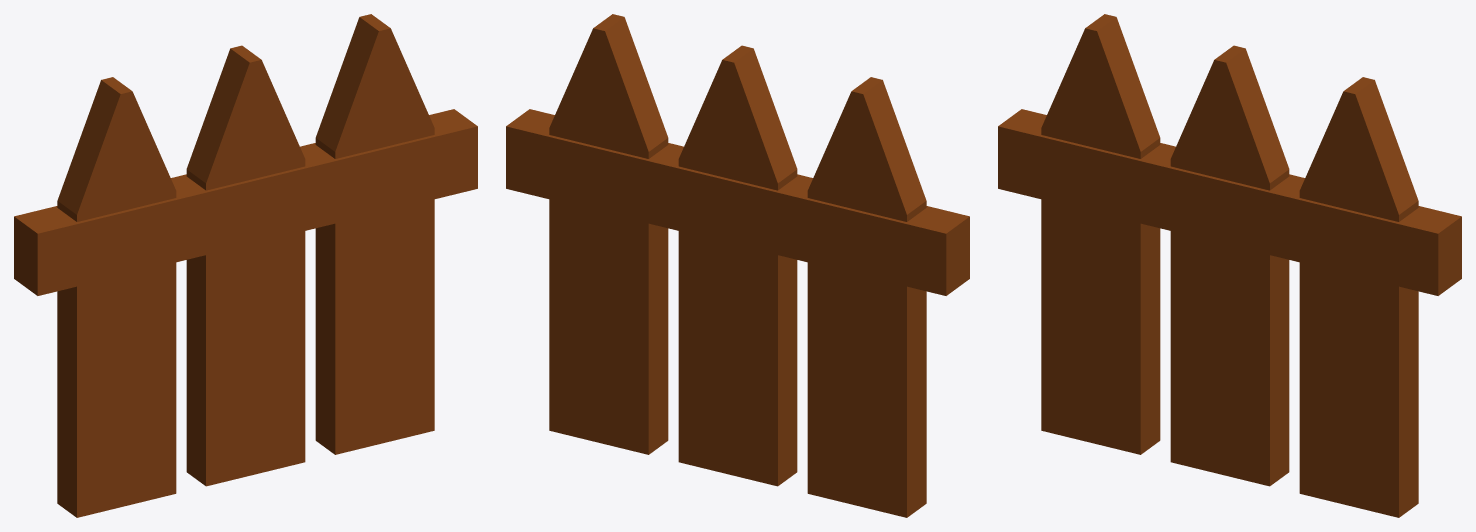
Rendered from fence.fbx.
3 views of the same model, side by side, from view 1: azimuth 30°, elevation 25°; view 2: azimuth 150°, elevation 25°; view 3: azimuth 330°, elevation 25° (orthographic).
Visible parts, largest first — view 1: Cube; view 2: Cube; view 3: Cube.
Boxes of the visible parts, bbox=[...] form: Cube: bbox=[14, 14, 477, 517]; Cube: bbox=[506, 14, 969, 517]; Cube: bbox=[998, 14, 1461, 517].
Size of the model in its own units: 168 by 150 by 15.65.
